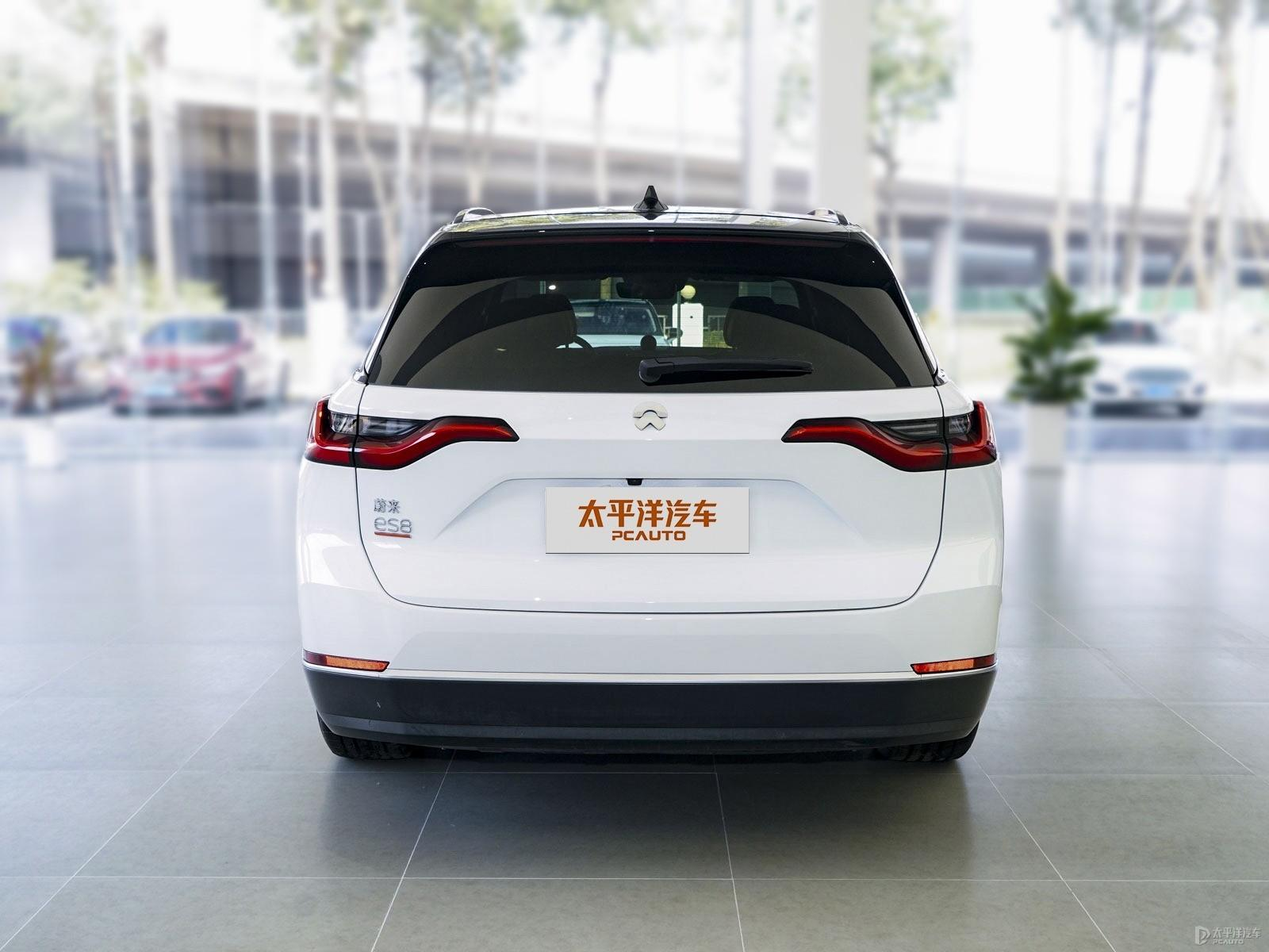NIO: (631, 402, 670, 432)
